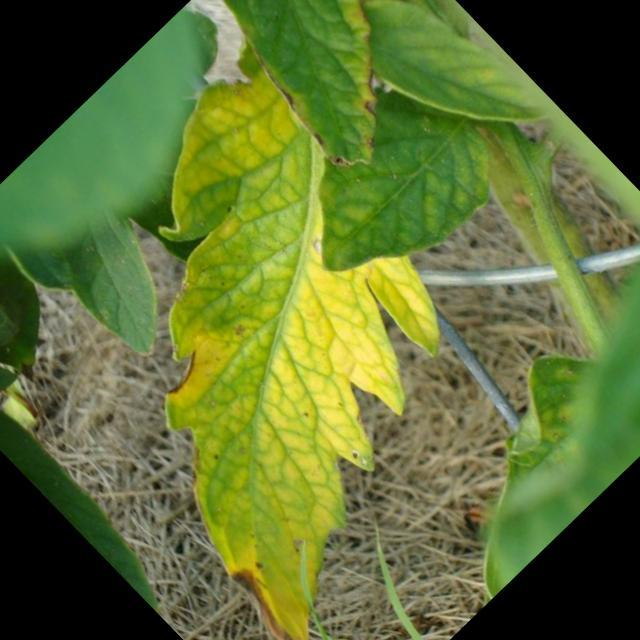Tomato mold leaf: (0, 40, 583, 640), (268, 52, 536, 318), (181, 0, 469, 190)
